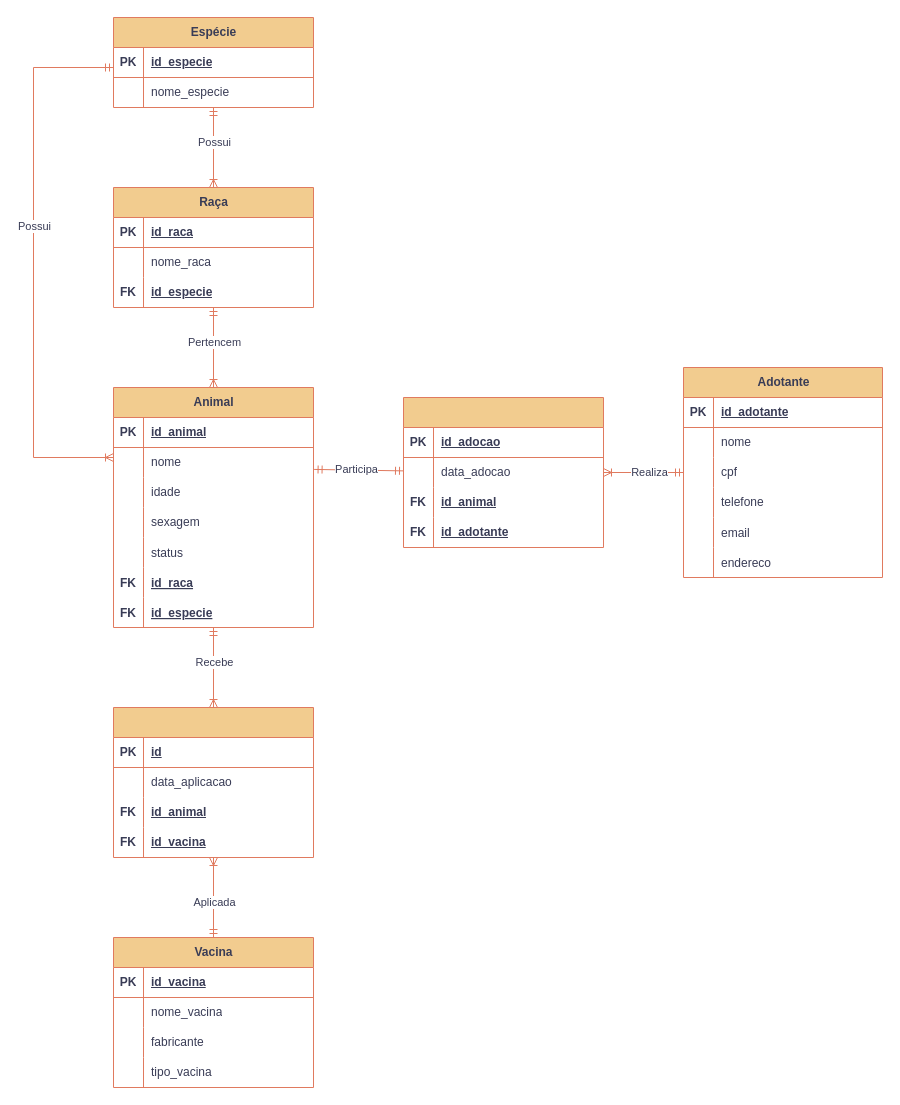
The diagram is 900 pixels wide and 1105 high, and some of its shapes have lost their labels. The box of each missing label's shape, as (x1, y1, x2, y2) in pixels:
Adoção: (402, 396, 604, 548)
Vacina_animal: (112, 706, 314, 858)
